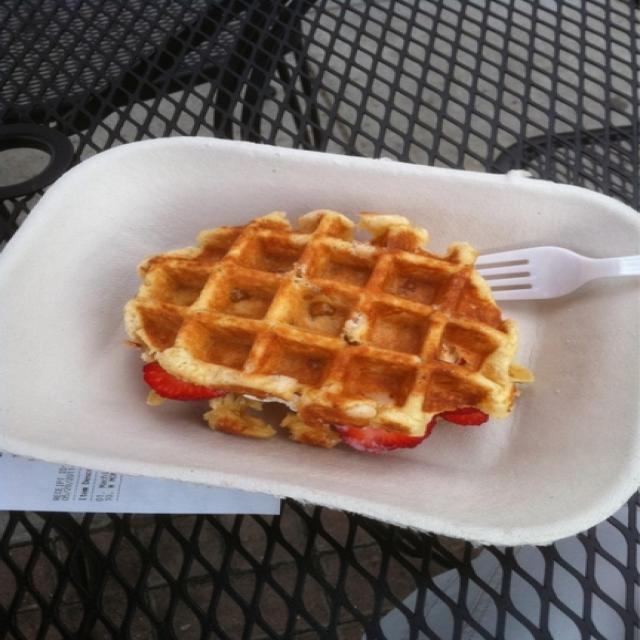炸货点心: (25, 82, 609, 602)
蛋糕甜品: (25, 82, 609, 602)
